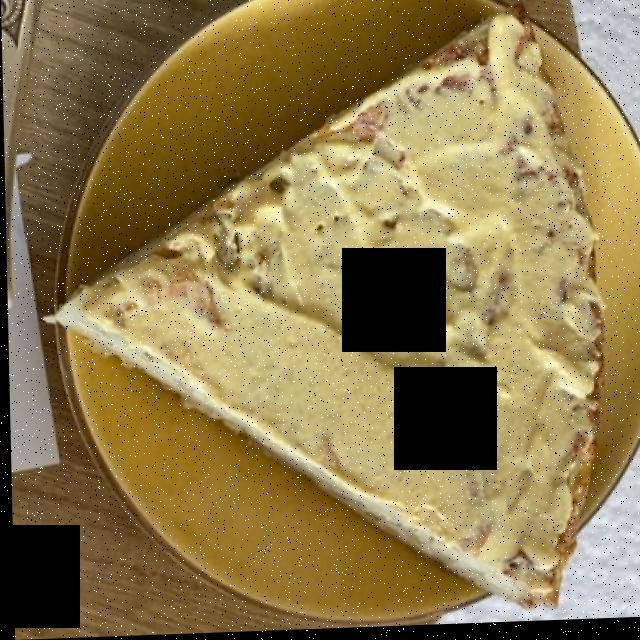mustard: (155, 75, 564, 537)
